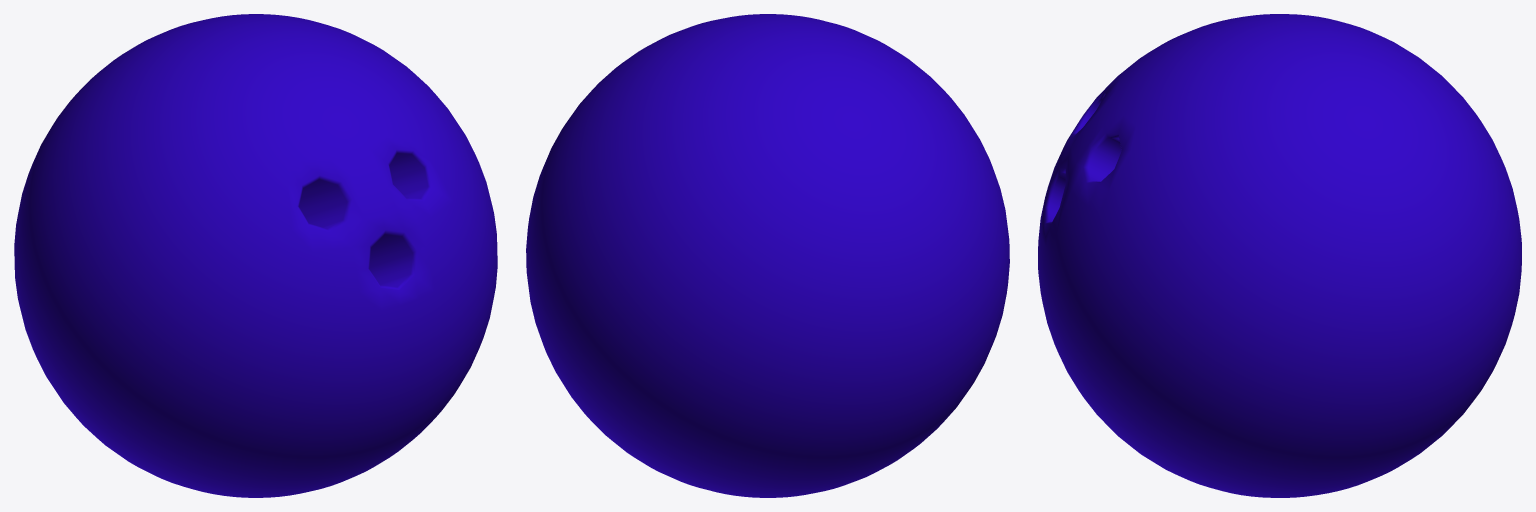
File: BowlingBall.fbx
The picture shows the model from 3 angles, left to right: view 1: azimuth 30°, elevation 25°; view 2: azimuth 150°, elevation 25°; view 3: azimuth 270°, elevation 25°; orthographic projection.
Parts seen in each view (by area): view 1: Sphere; view 2: Sphere; view 3: Sphere.
Boxes of the visible parts, x1,y1,x2,y2 form: Sphere: (14, 14, 497, 497); Sphere: (526, 14, 1009, 497); Sphere: (1038, 14, 1521, 497).
Size of the model in its own units: 200 by 200 by 200.
